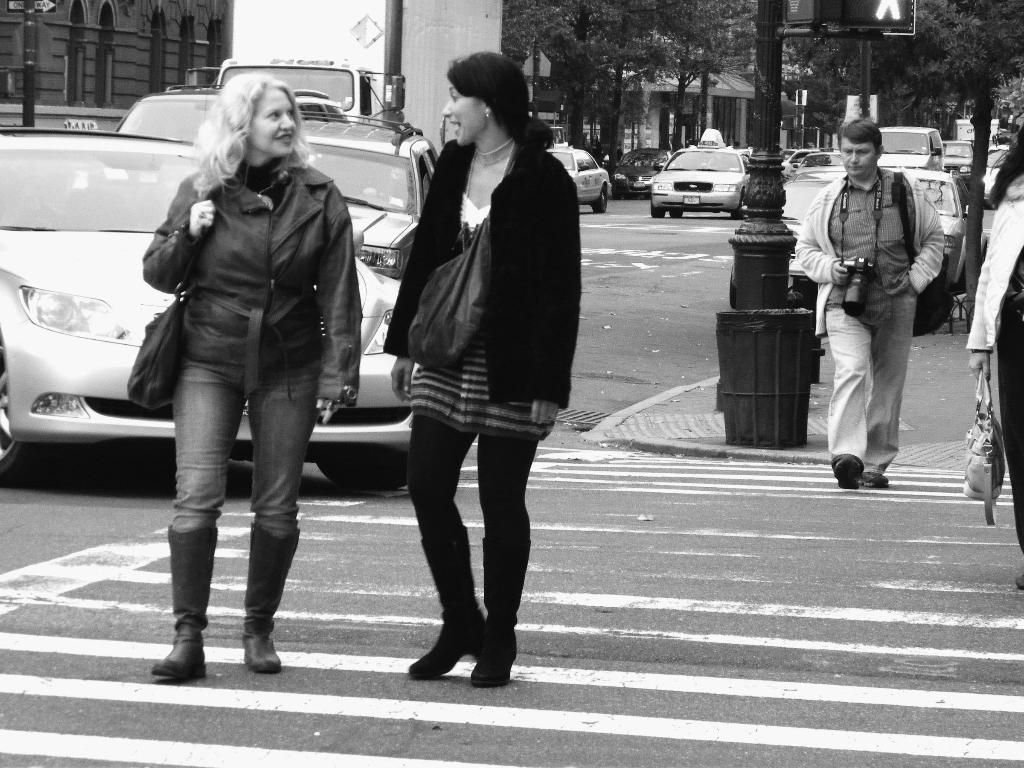Car: (0, 119, 416, 488), (780, 170, 967, 311), (302, 119, 440, 279), (113, 80, 345, 156), (645, 144, 748, 218), (541, 143, 614, 209), (872, 119, 950, 172), (602, 144, 668, 189), (976, 140, 1013, 202), (938, 136, 971, 177), (784, 145, 835, 170)
